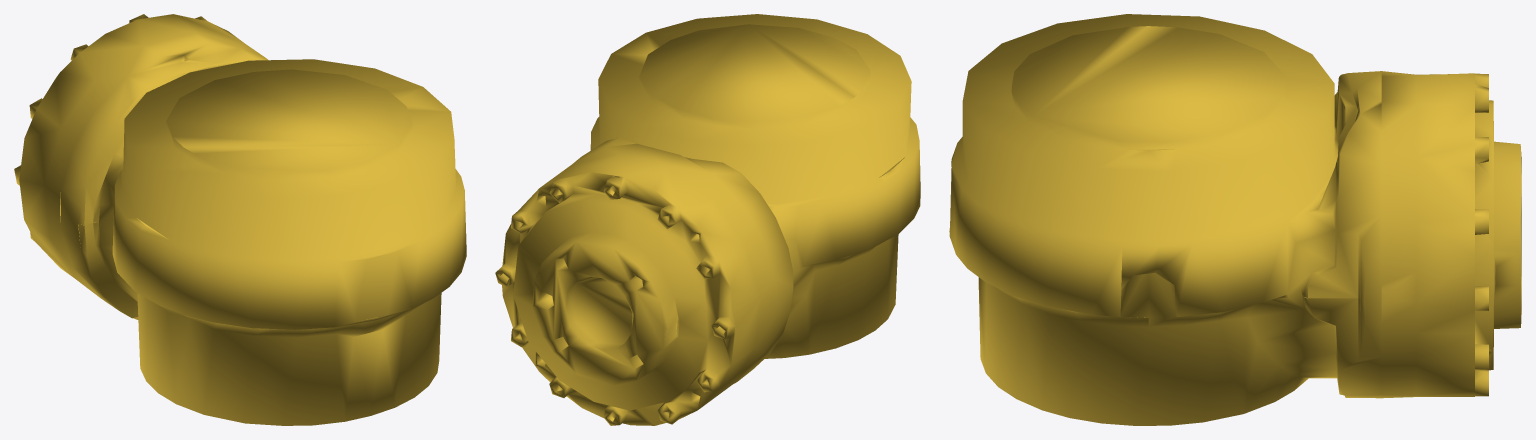
3 views of the same model, side by side, from view 1: azimuth 30°, elevation 25°; view 2: azimuth 150°, elevation 25°; view 3: azimuth 270°, elevation 25° (orthographic). The views are drawn at different scales.
Size of the model in its own units: 85.17 by 70.94 by 123.
